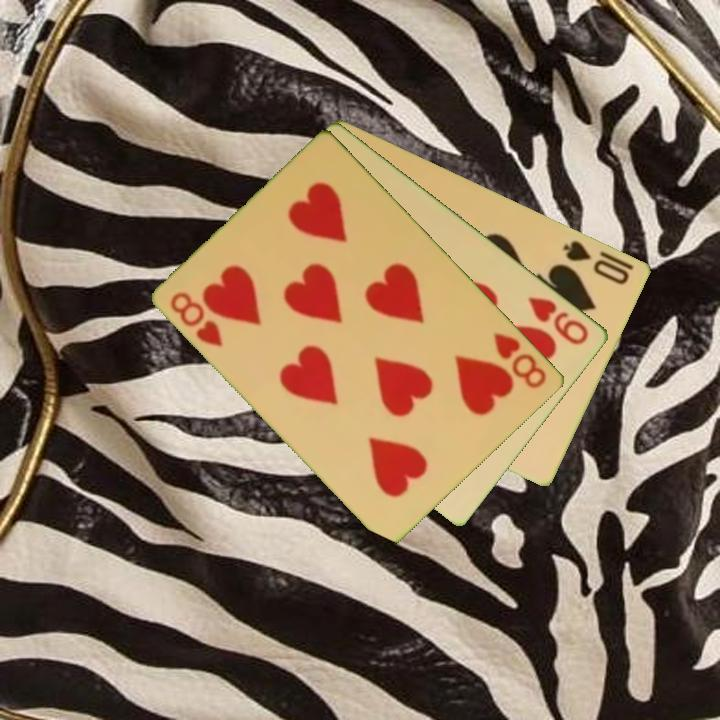10s: (559, 236, 633, 287)
8h: (490, 328, 550, 392), (167, 288, 227, 350)
9h: (524, 292, 593, 348)
